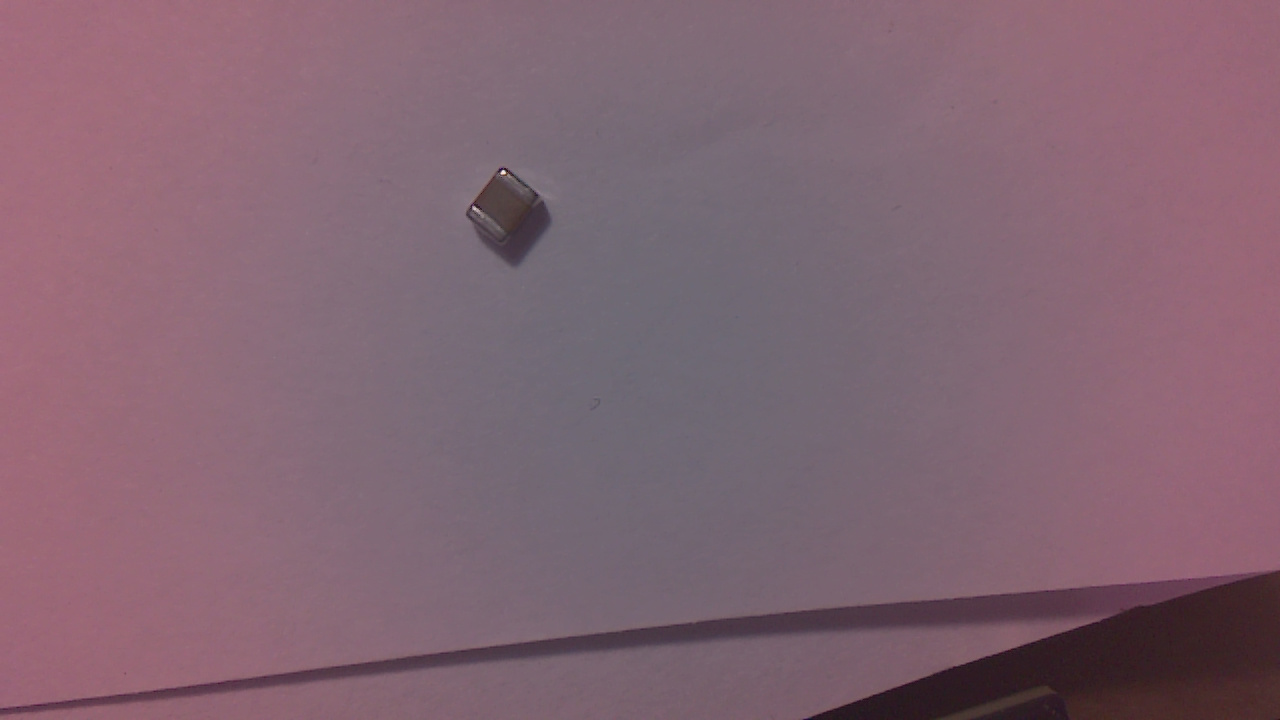Condensator: (471, 169, 552, 253)
